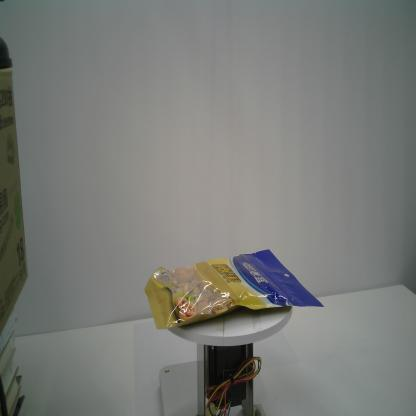Dried Fruit: (141, 246, 324, 330)
